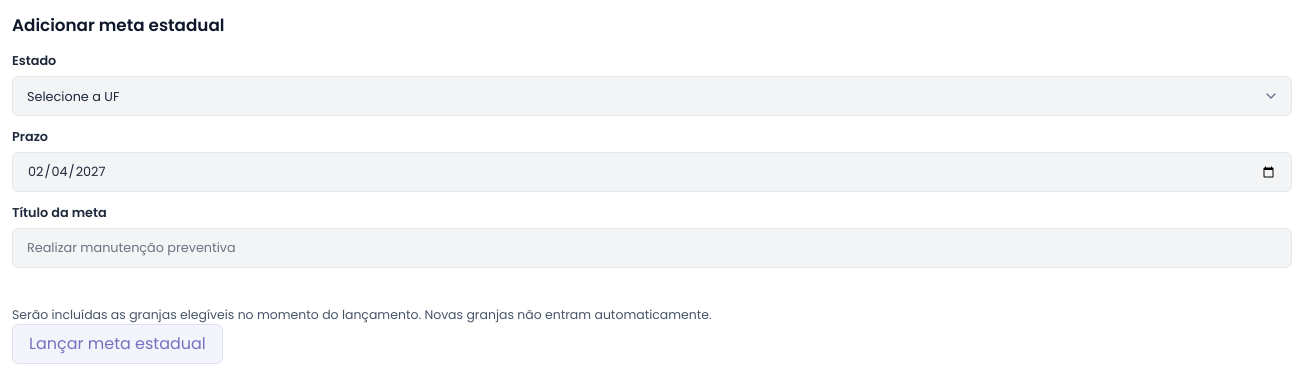
Test case: ignora prévia antiga ao trocar de estado
Type "Economizar água" into the field labelled "Título da meta" at point(652, 248), box [12, 228, 1292, 268]
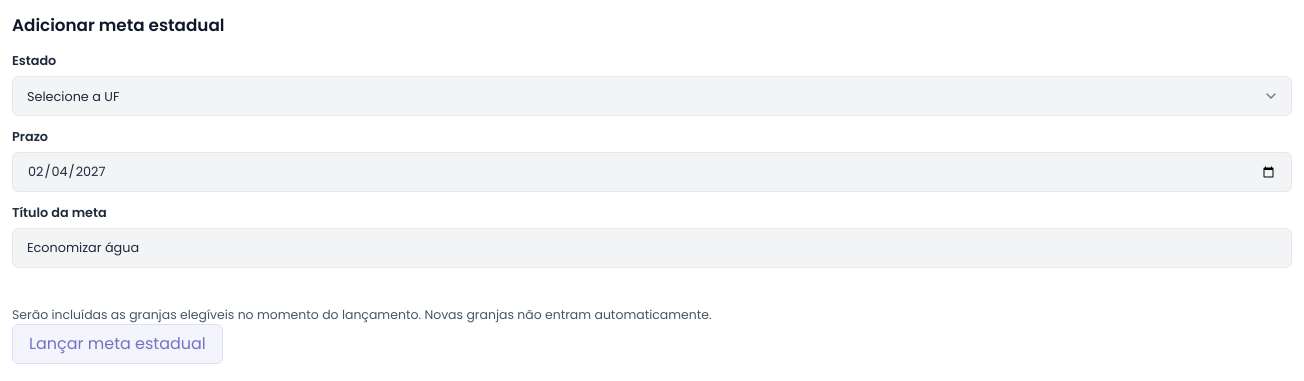
Type "2099-01-01" into the date field labelled "Prazo" at point(652, 172), box [12, 152, 1292, 192]
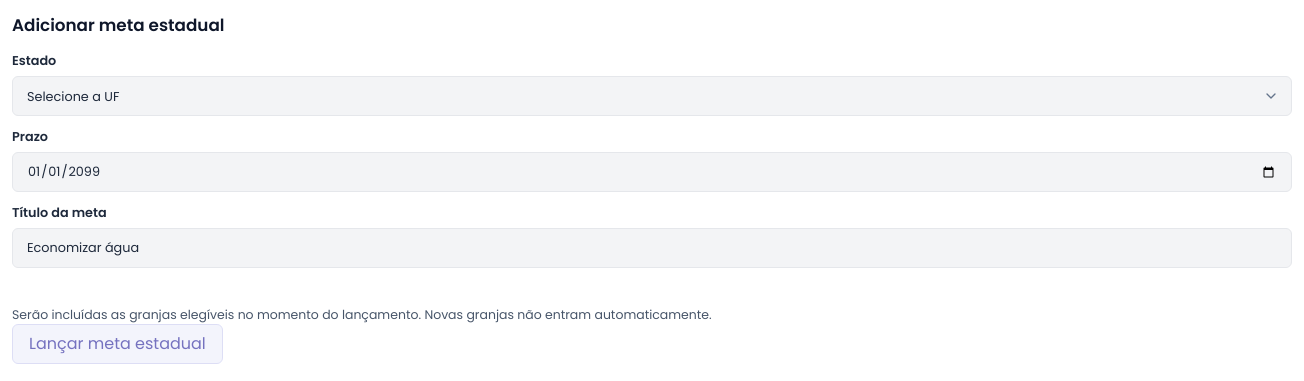
Select "São Paulo (SP)" in the dropdown labelled "Estado" at point(652, 96), box [12, 76, 1292, 116]
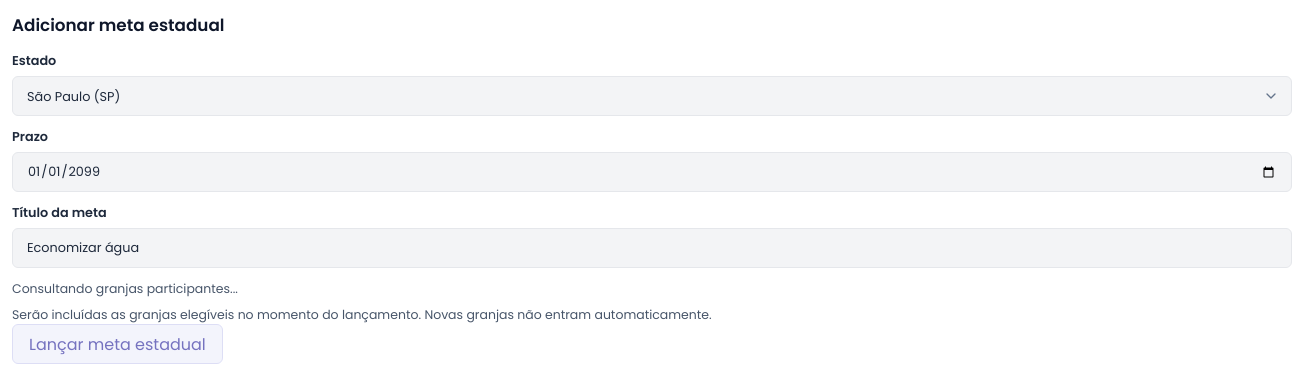
Select "Rio de Janeiro (RJ)" in the dropdown labelled "Estado" at point(652, 96), box [12, 76, 1292, 116]
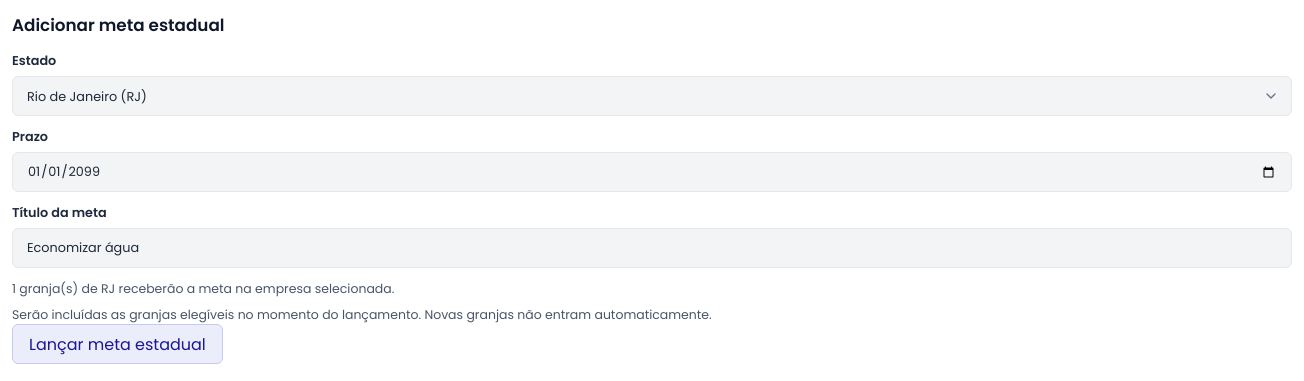
Check: the text "1 granja(s) de RJ receberão a meta na empresa selecionada." is shown, box [12, 280, 394, 297]
